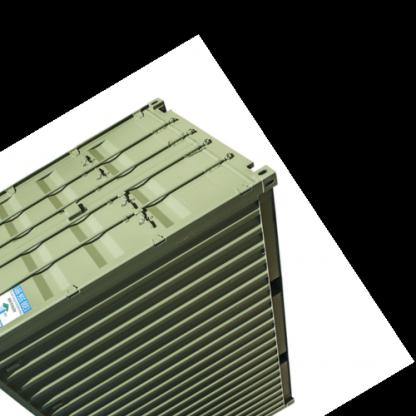Damage: (169, 216, 214, 243)
